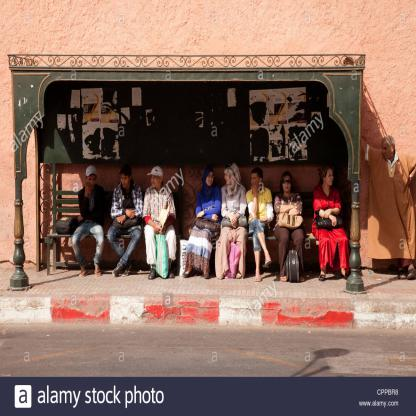Not_Wearing_Mask: (283, 174, 291, 195), (326, 172, 336, 187), (383, 142, 391, 160), (251, 174, 260, 190), (151, 173, 160, 189), (206, 172, 214, 187), (224, 171, 231, 186), (121, 174, 128, 188), (88, 176, 96, 188)
